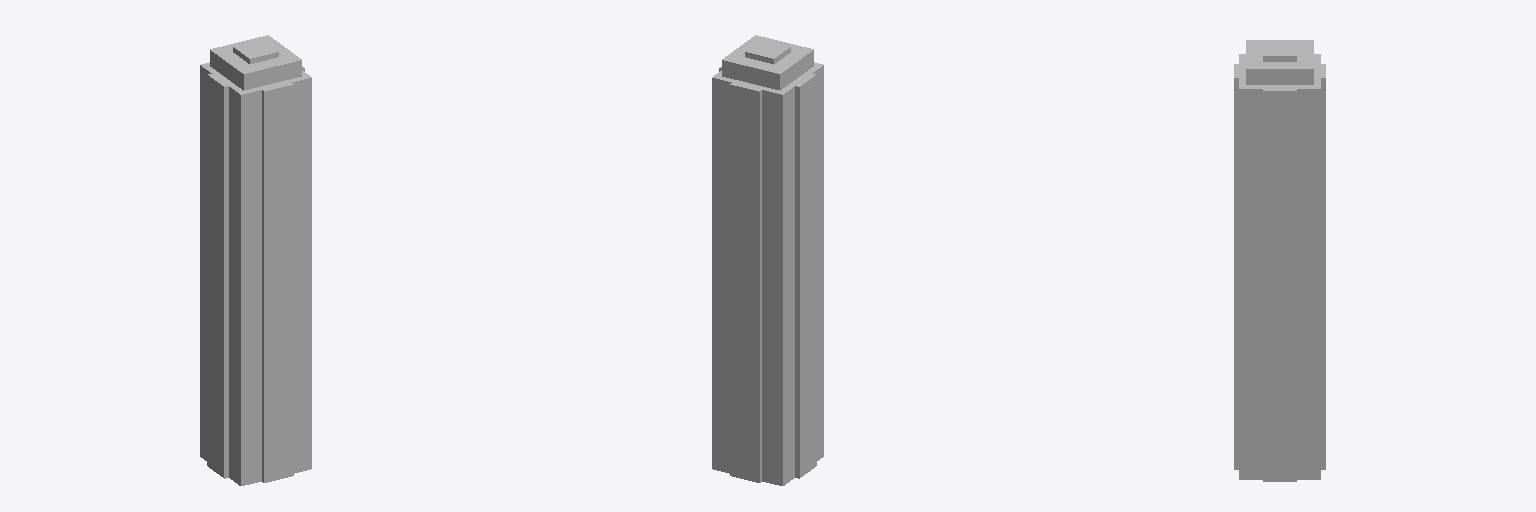
File: skyscraper2.obj
3 views of the same model, side by side, from view 1: azimuth 30°, elevation 25°; view 2: azimuth 150°, elevation 25°; view 3: azimuth 270°, elevation 25° (orthographic).
Parts seen in each view (by area): view 1: skyscraper_2; view 2: skyscraper_2; view 3: skyscraper_2.
Boxes of the visible parts, <box> form: skyscraper_2: <box>200,35,311,485</box>; skyscraper_2: <box>712,35,823,485</box>; skyscraper_2: <box>1234,40,1325,481</box>.
Bounding box in the file's own units: 226 × 1116 × 226.